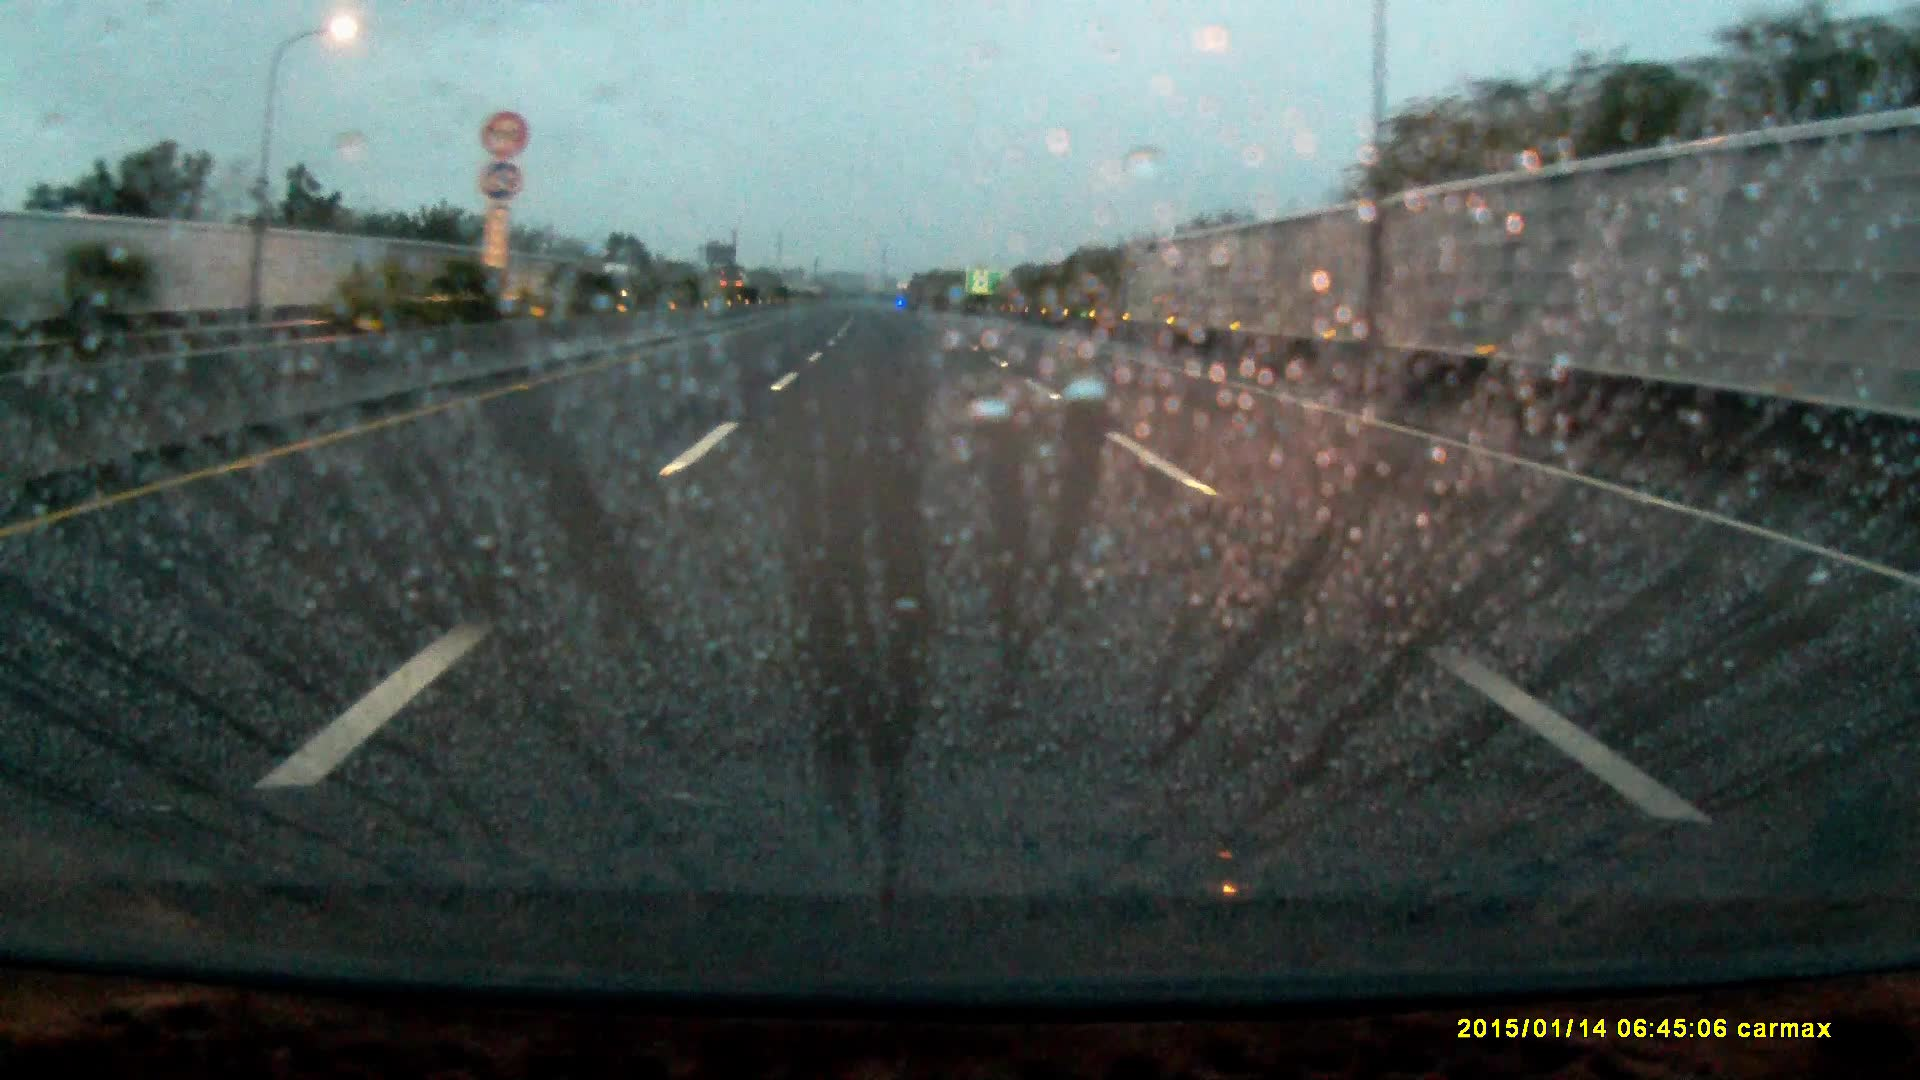vehicle: (600, 264, 644, 301), (721, 278, 754, 305)
